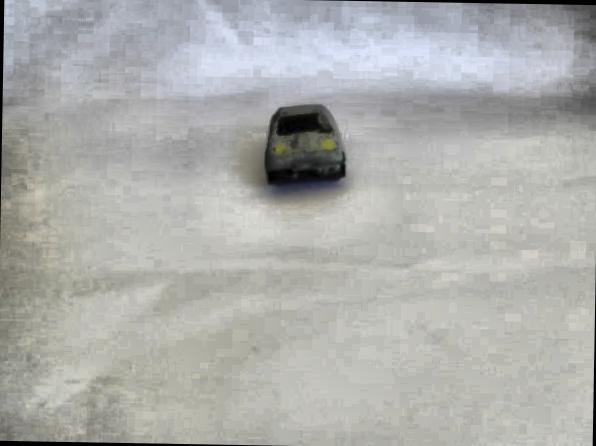normal_car: (258, 102, 349, 192)
